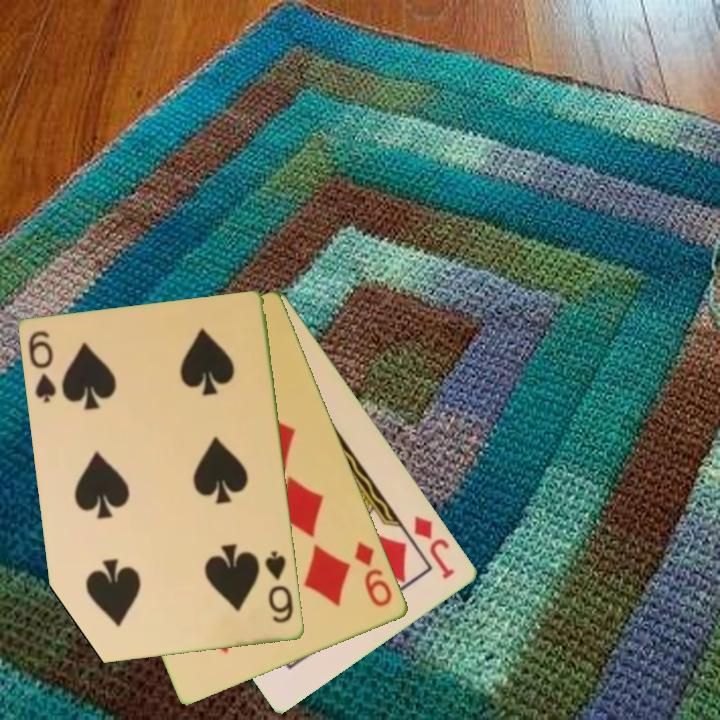6s: (262, 548, 297, 627), (25, 327, 60, 406)
9d: (351, 538, 396, 610)
Jd: (410, 512, 459, 582)
